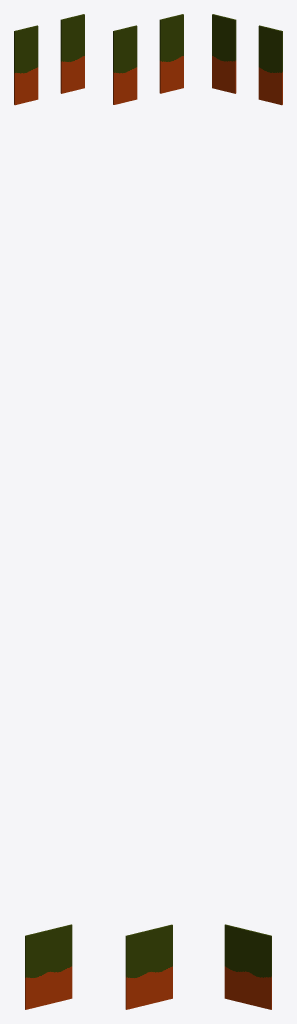
Rendered from lift_doors.glb.
3 renders of one model, left to right at view 1: azimuth 30°, elevation 25°; view 2: azimuth 210°, elevation 25°; view 3: azimuth 330°, elevation 25°, orthographic.
Visible parts, largest first — view 1: elevatordoortop2, elevatordoortop1, elevatordoorbottom1, elevatordoorbottom2; view 2: elevatordoorbottom1, elevatordoortop1, elevatordoortop2, elevatordoorbottom2; view 3: elevatordoortop1, elevatordoortop2, elevatordoorbottom2, elevatordoorbottom1.
Boxes of the visible parts, x1,y1,x2,y2 form: elevatordoortop2: [14, 25, 38, 105]; elevatordoortop1: [60, 14, 84, 93]; elevatordoorbottom1: [48, 924, 72, 1004]; elevatordoorbottom2: [25, 930, 48, 1009]; elevatordoorbottom1: [125, 930, 149, 1009]; elevatordoortop1: [113, 25, 137, 104]; elevatordoortop2: [159, 14, 183, 93]; elevatordoorbottom2: [149, 924, 172, 1003]; elevatordoortop1: [258, 25, 282, 105]; elevatordoortop2: [212, 14, 236, 93]; elevatordoorbottom2: [224, 924, 248, 1004]; elevatordoorbottom1: [248, 930, 271, 1009].
Bounding box in the file's own units: 2.4 × 32.11 × 0.1006.
Materials: 1 (1 with a texture image).
